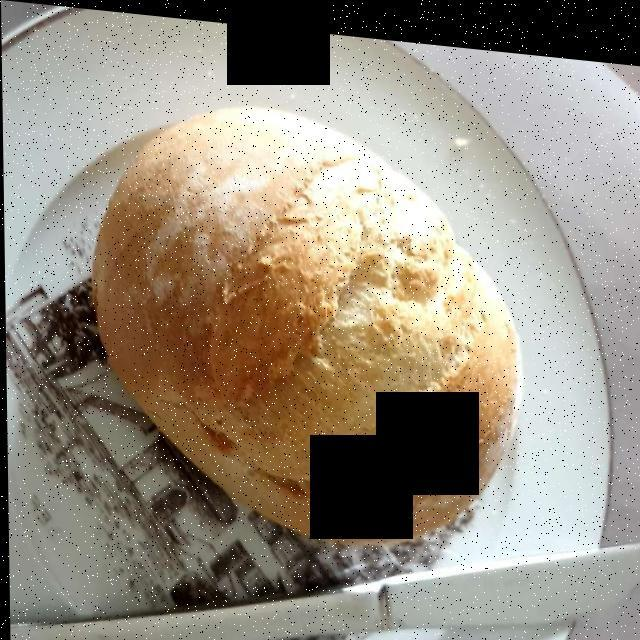bread: (90, 106, 515, 532)
